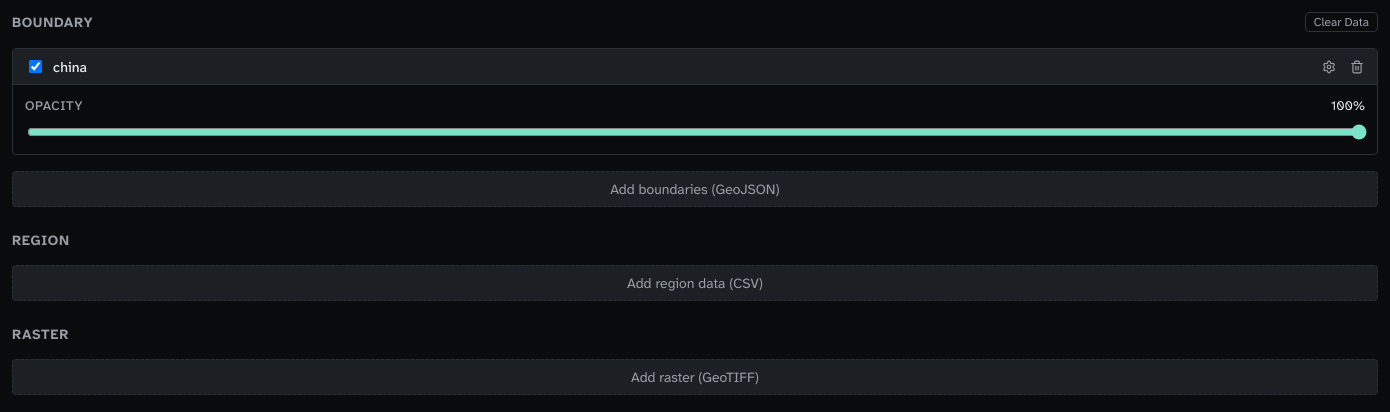
Scenario: LayersPanel › Clear Data removes boundary overlays and hides their cards
What coordinates should you click on to do the following:
click the button with test id "clear-boundary-btn"
I would click on:
 (1341, 22)
Its box is left=1305, top=12, right=1378, bottom=32.
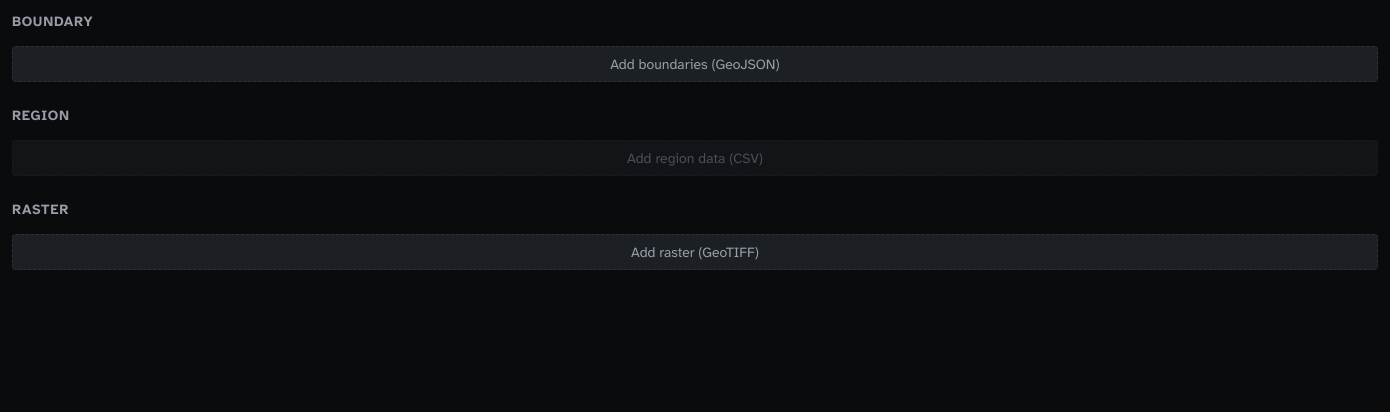
Expected: the element with test id "layer-card-ov-1" is gone
Expected: the button with test id "clear-boundary-btn" is gone
